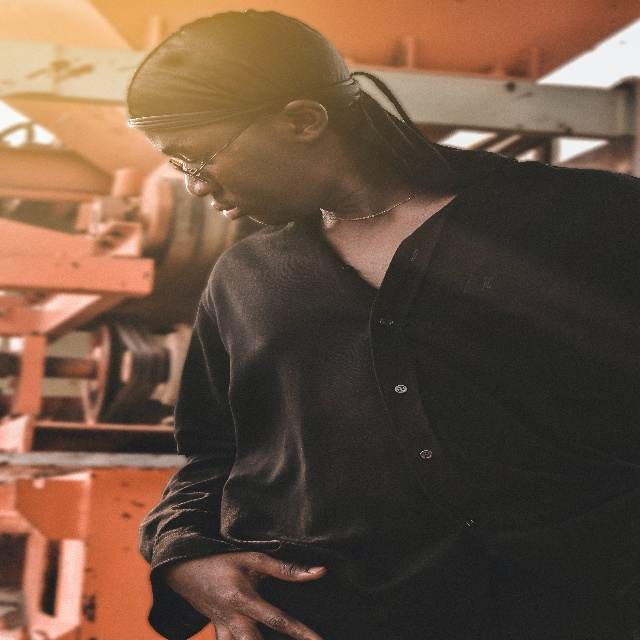Gafas: (168, 103, 275, 184)
Sin_guantes: (163, 550, 327, 640)
